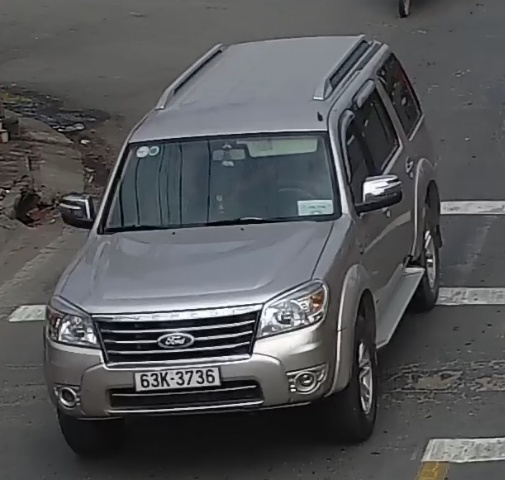vehicle plate: (131, 364, 222, 394)
